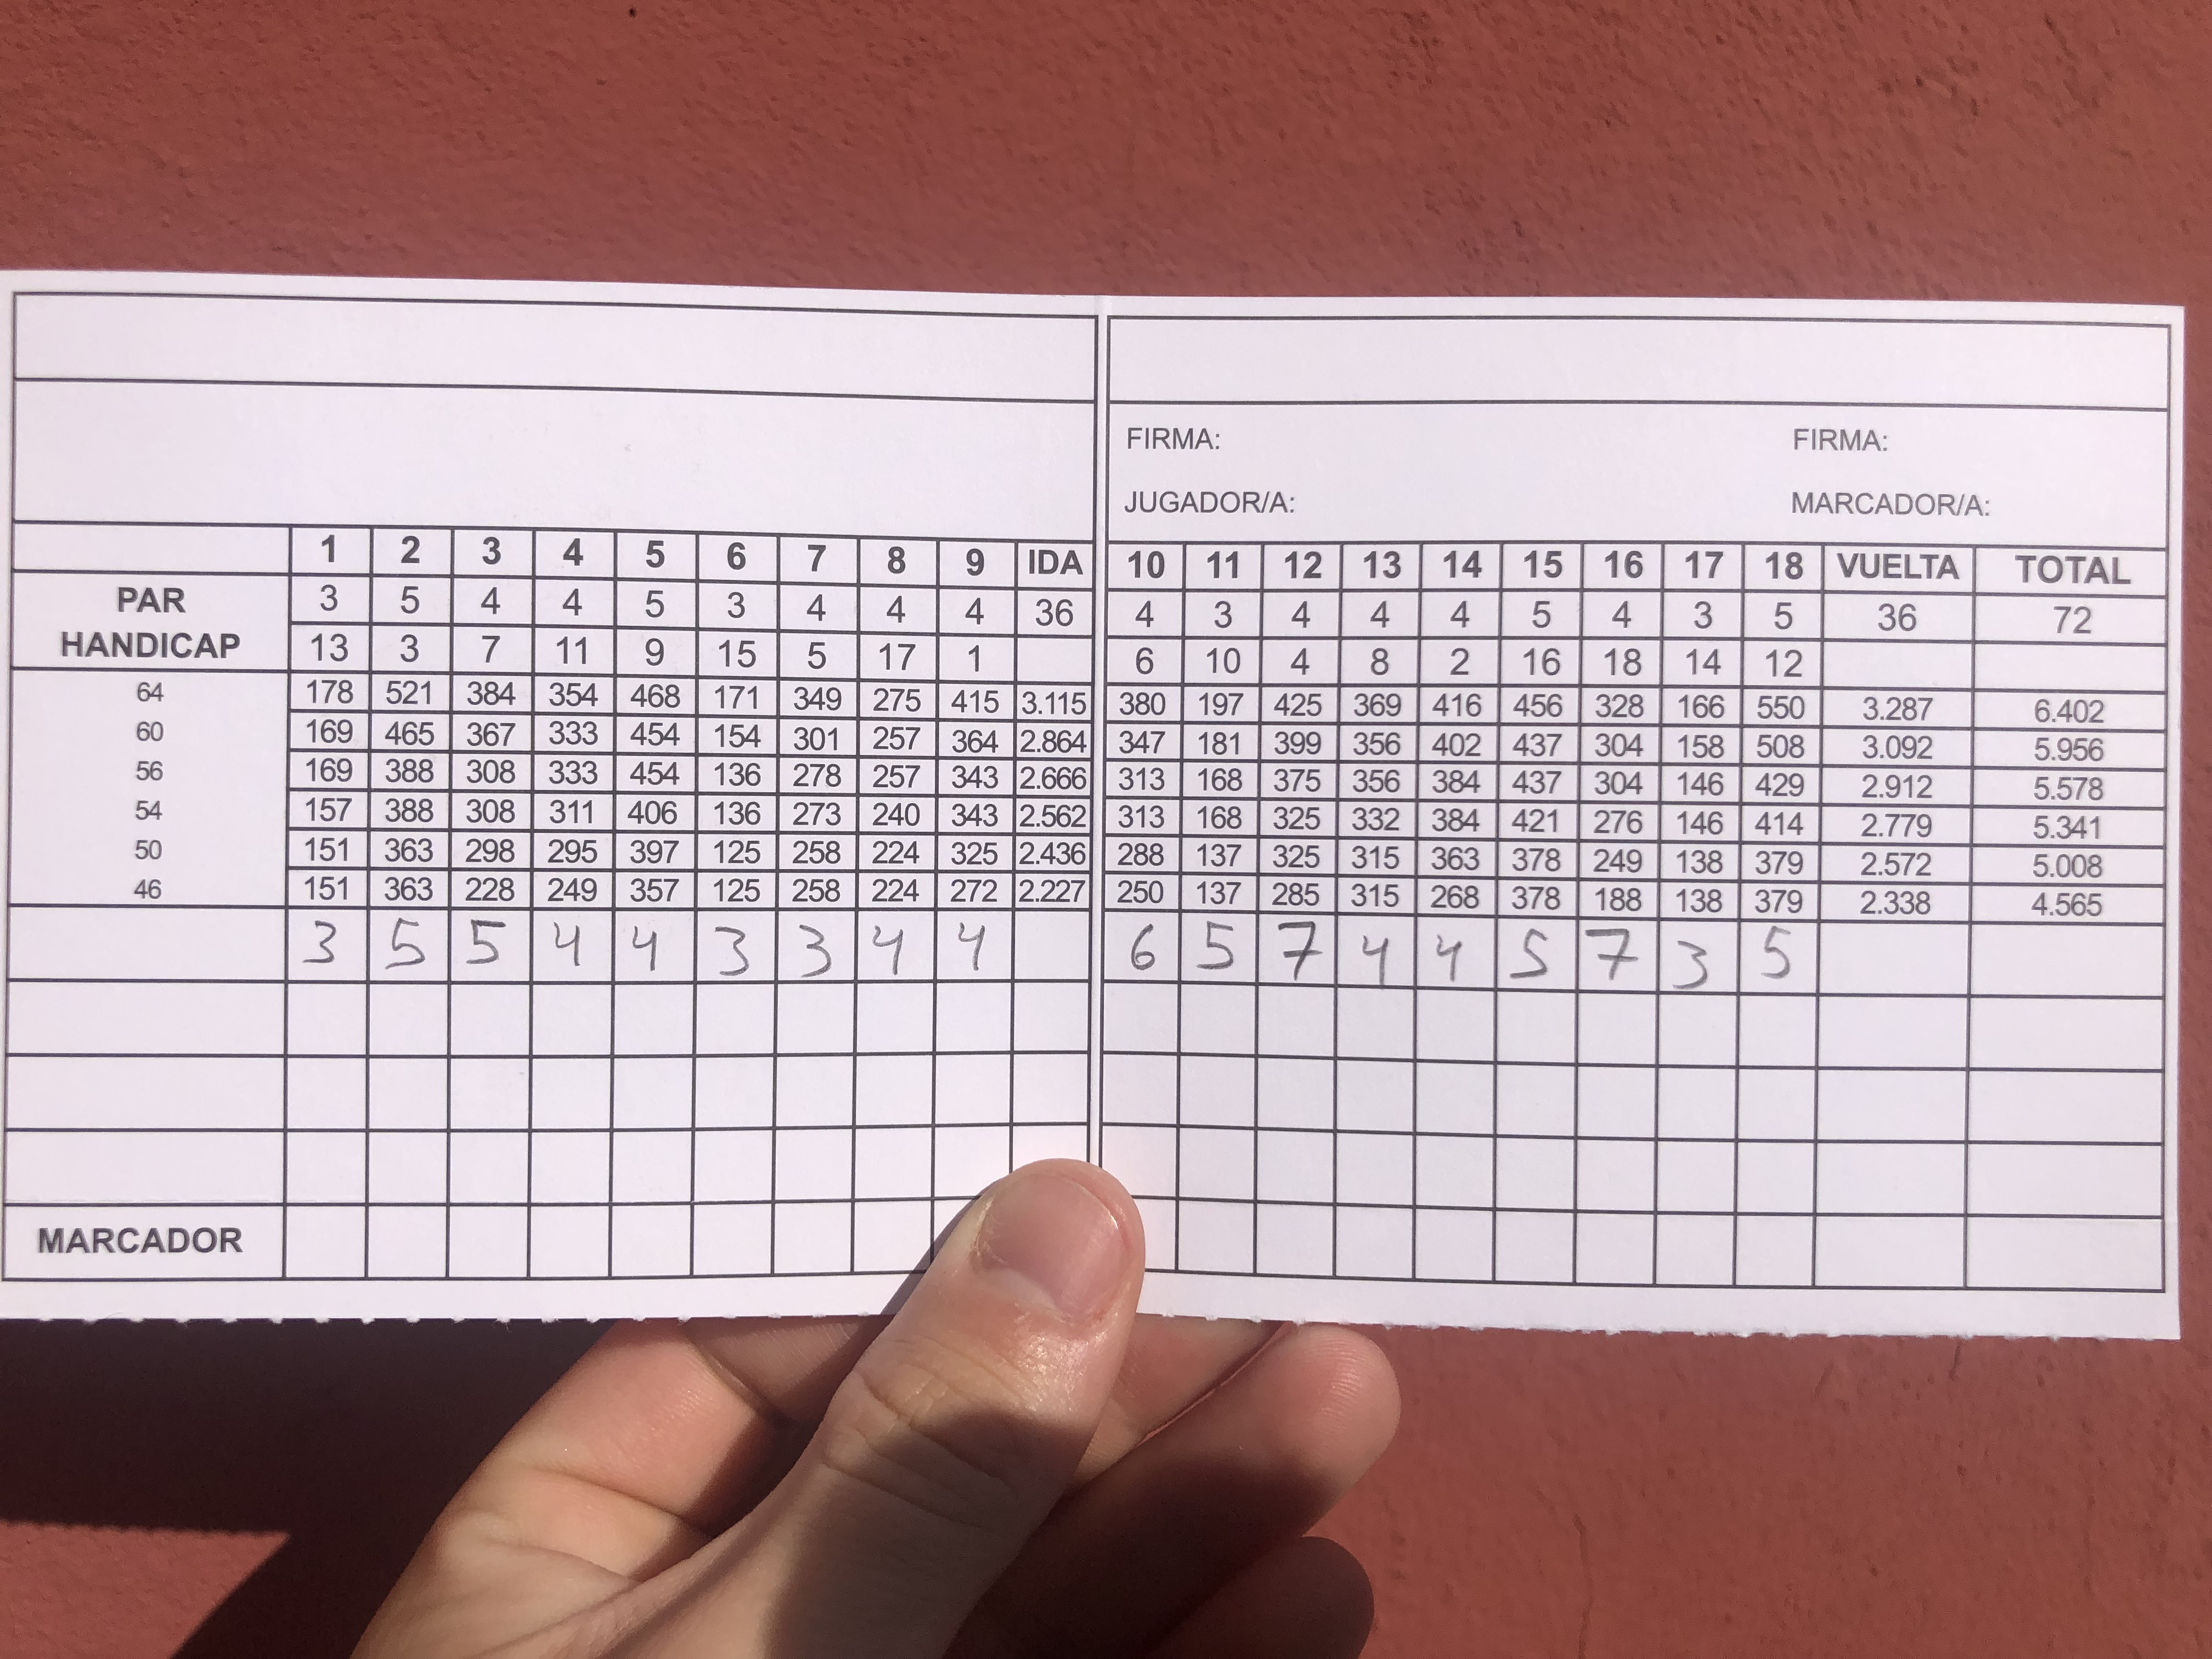par: (115, 580, 2099, 638)
score: (301, 915, 1794, 995)
